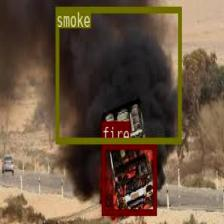fire: (101, 142, 156, 214)
smoke: (55, 6, 181, 142)
